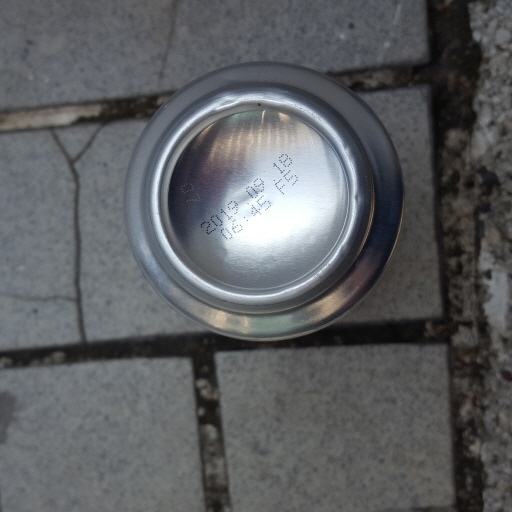Metal_0: (125, 64, 405, 342)
